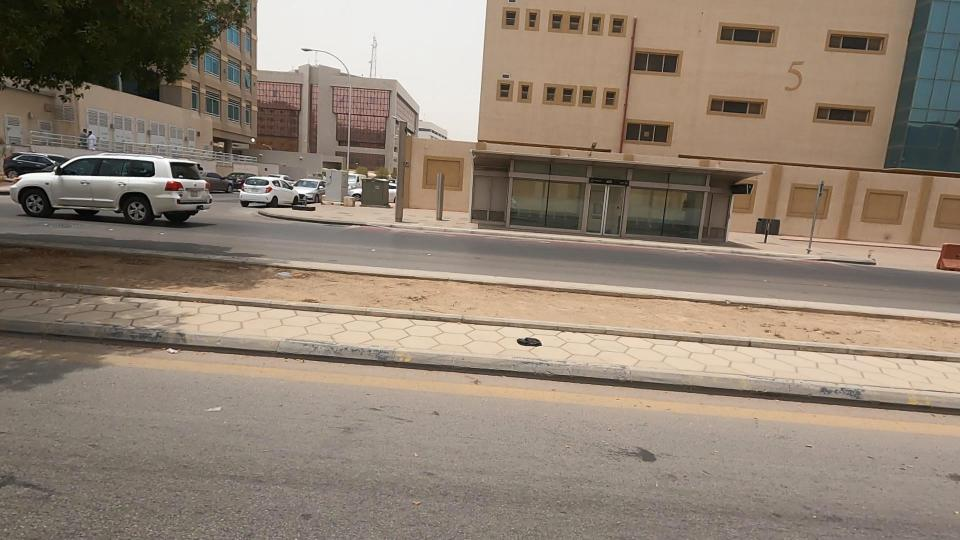CLUTTER_SIDEWALK: (367, 240, 960, 405), (0, 213, 469, 366)
GARBAGE: (460, 300, 581, 375)
